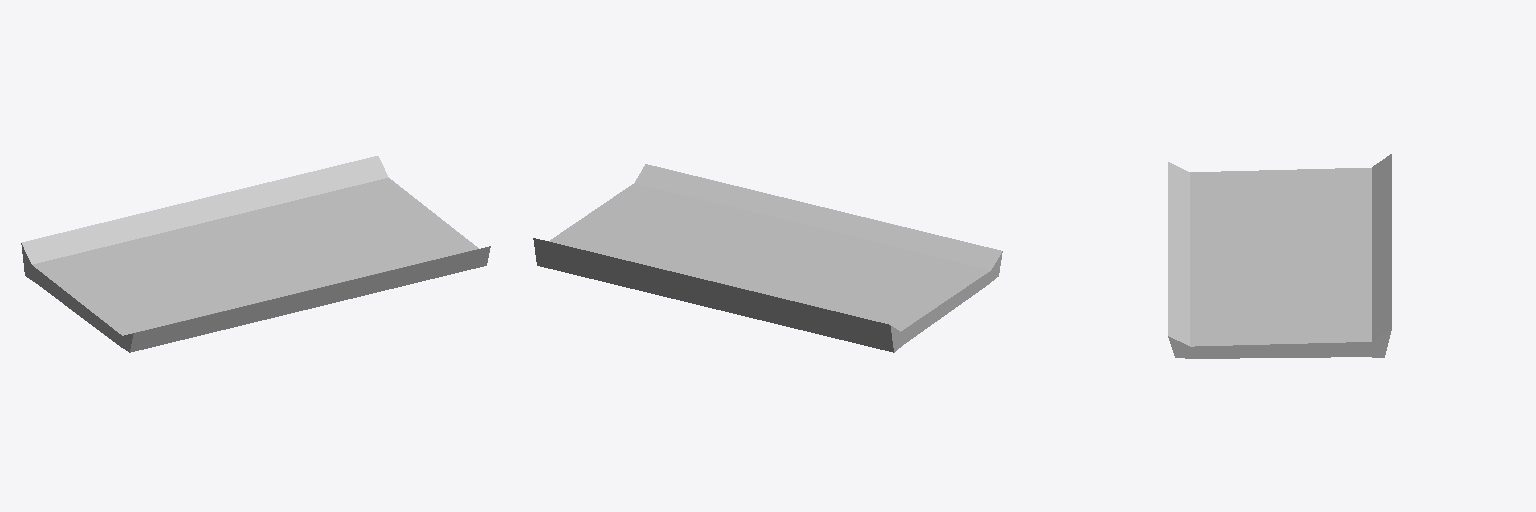
The model's file is computer_brutalist_keyboard.obj.
3 renders of one model, left to right at view 1: azimuth 30°, elevation 25°; view 2: azimuth 150°, elevation 25°; view 3: azimuth 270°, elevation 25°, orthographic.
Visible parts, largest first — view 1: Cube.003; view 2: Cube.003; view 3: Cube.003.
Part boxes in pixels (x1,y1,x2,y2): Cube.003: (21,156,490,352); Cube.003: (533,164,1002,352); Cube.003: (1168,154,1391,358).
Bounding box in the file's own units: 0.5 × 0.0424 × 0.2726.